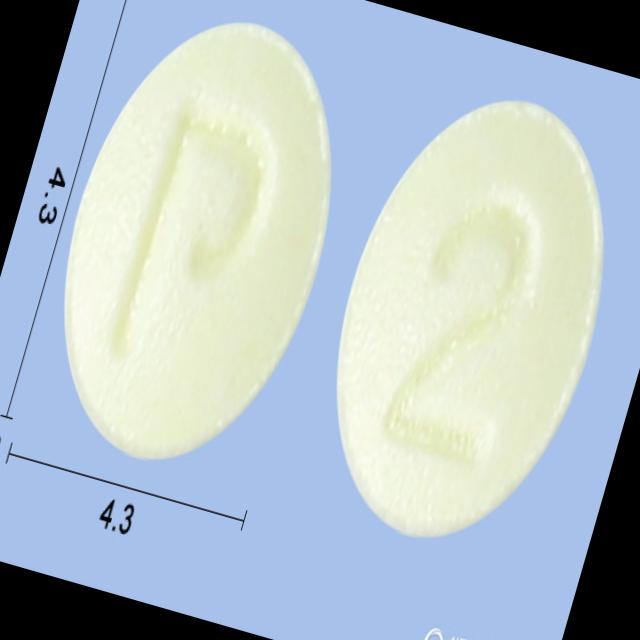Azabio - 25mg: (11, 0, 384, 500)
